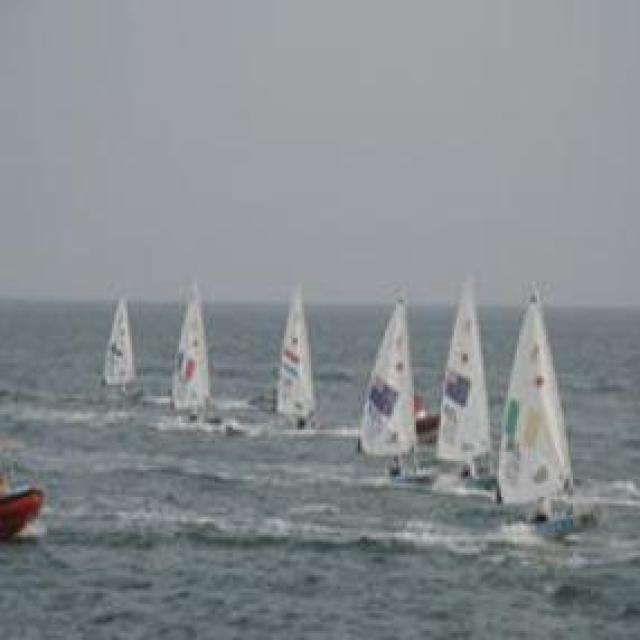sailboat: (488, 282, 577, 530), (350, 289, 424, 496), (434, 274, 487, 491), (169, 274, 219, 418), (270, 279, 312, 436), (101, 291, 141, 402)
